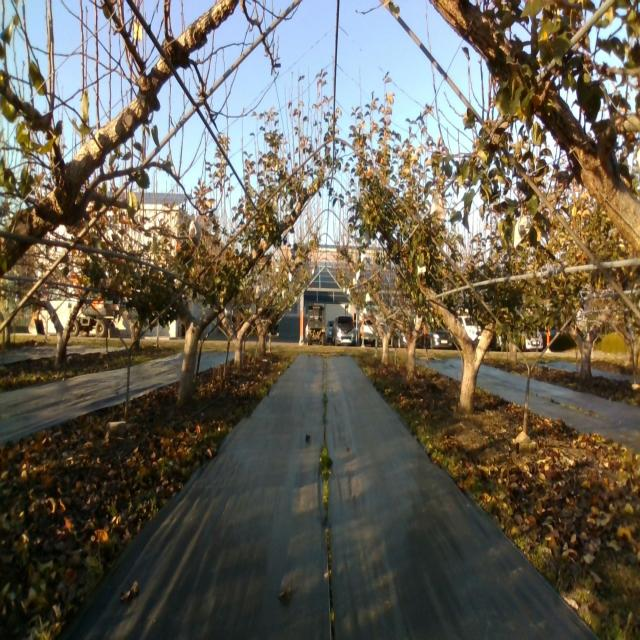pearbags: (513, 217, 534, 248), (188, 216, 202, 246), (430, 192, 446, 218)
